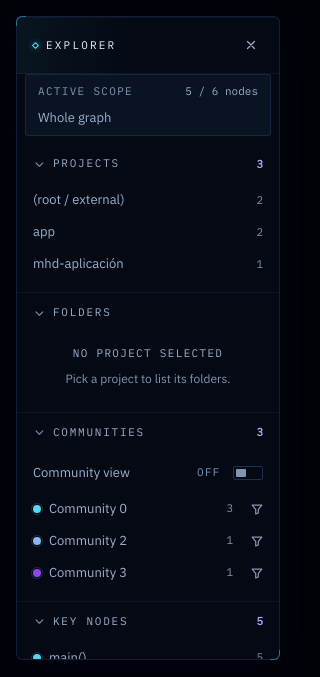
Test: ExplorerPanel › lists projects and marks the active one
The image size is (320, 677).
Check: the text "No project selected" is shown, box [73,345,223,362]
Step 1. Click the button "app 2" → (148,232), box [25,216,271,248]
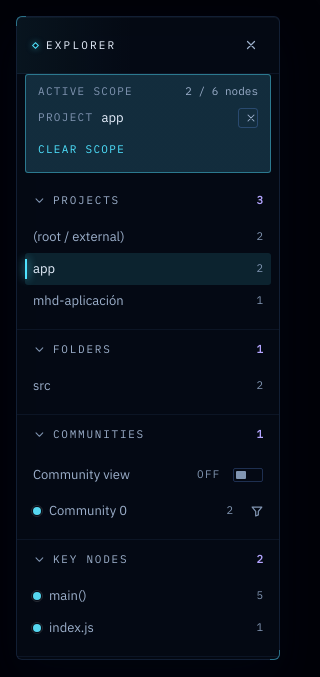
Check: the text "app" below "Active scope" is shown, box [102,109,124,126]
Check: the text "src" is shown, box [33,377,51,394]
